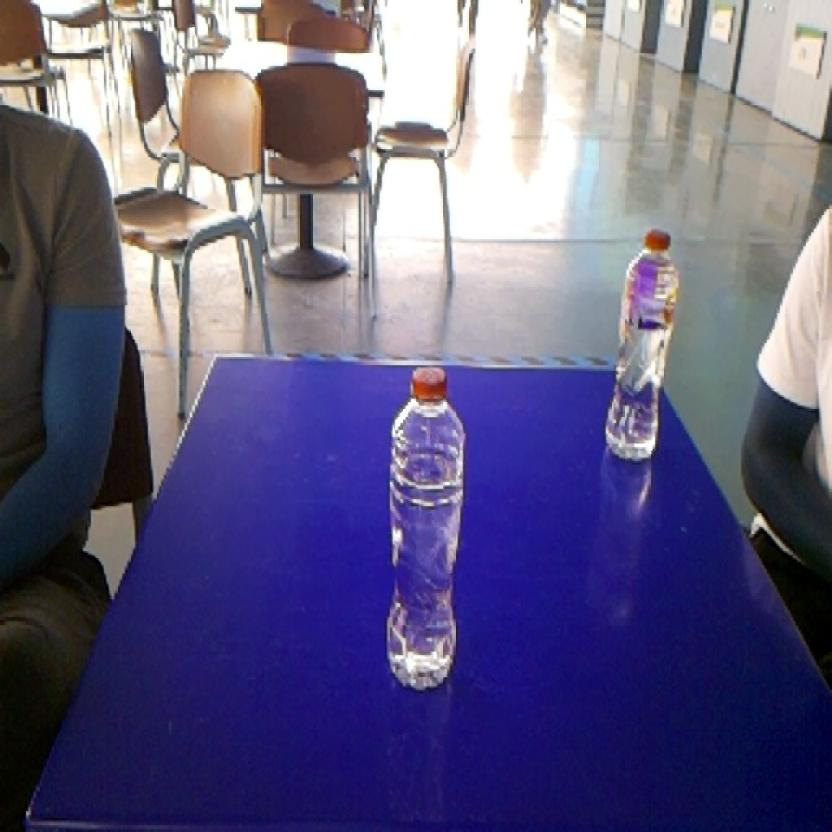good: (600, 222, 684, 472)
no_label: (372, 359, 480, 700)
